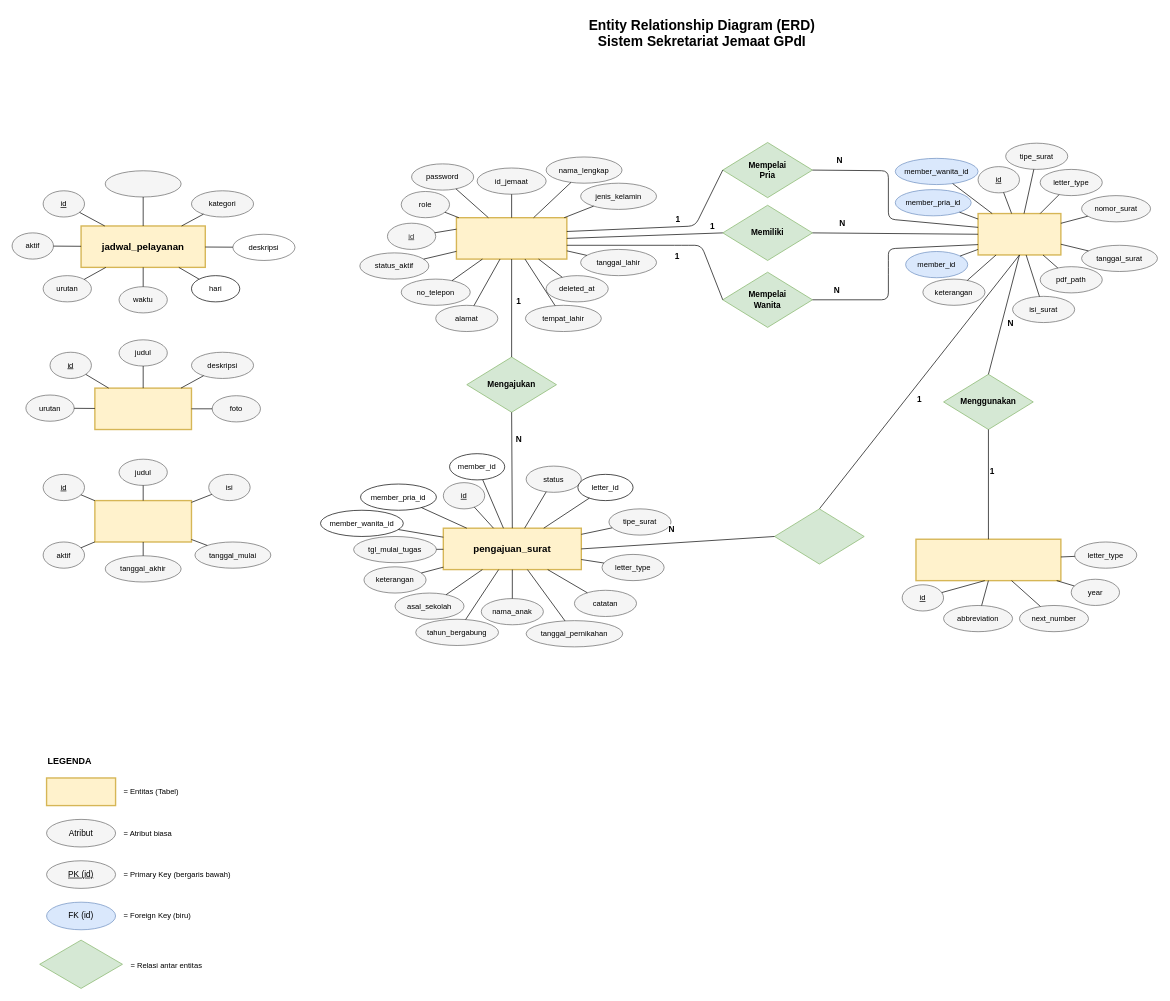
Some shapes in this 1170 by 1001 pixel diagram are drawn without their labels. Each missing label, with the box of its shape:
Entitas: (46, 777, 116, 806)
galeri_foto: (94, 387, 192, 430)
letter_number_counters: (915, 538, 1061, 581)
letters: (977, 213, 1061, 255)
members: (455, 217, 567, 259)
Menghasilkan: (774, 508, 864, 564)
nama_kegiatan: (105, 170, 181, 197)
pengumuman: (94, 500, 192, 542)
Relasi: (39, 939, 122, 988)
